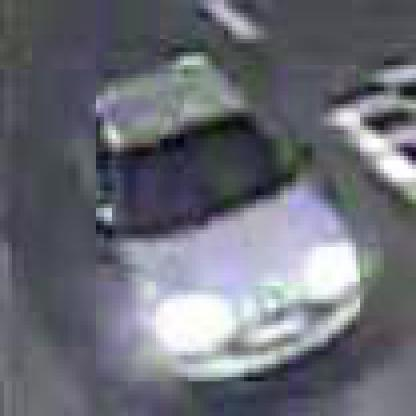car: (93, 53, 361, 387)
